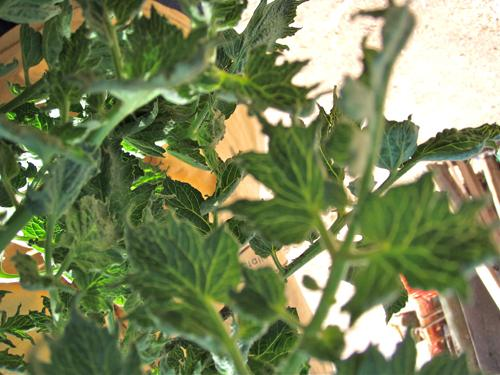Tomato leaf mosaic virus: (332, 180, 493, 323), (127, 213, 243, 316), (246, 131, 344, 244), (230, 48, 319, 112), (120, 11, 189, 89), (150, 165, 219, 235), (410, 114, 496, 167)
